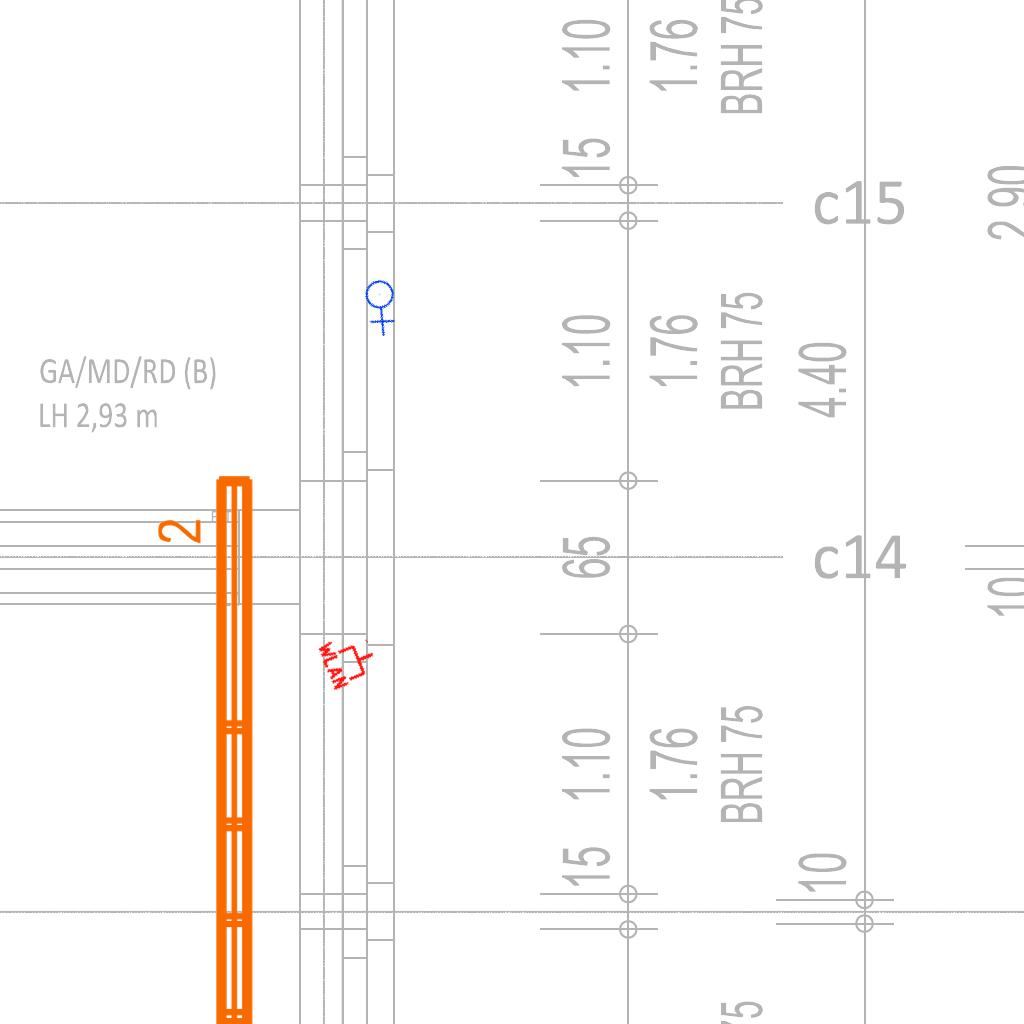Ambulanz_Pendelleuchte_LED: (153, 467, 265, 1024)
Elektroanschluss_allgemein_230V_Geraeteanschlussdose_230V: (348, 270, 417, 339)
WLAN: (315, 625, 383, 693)
